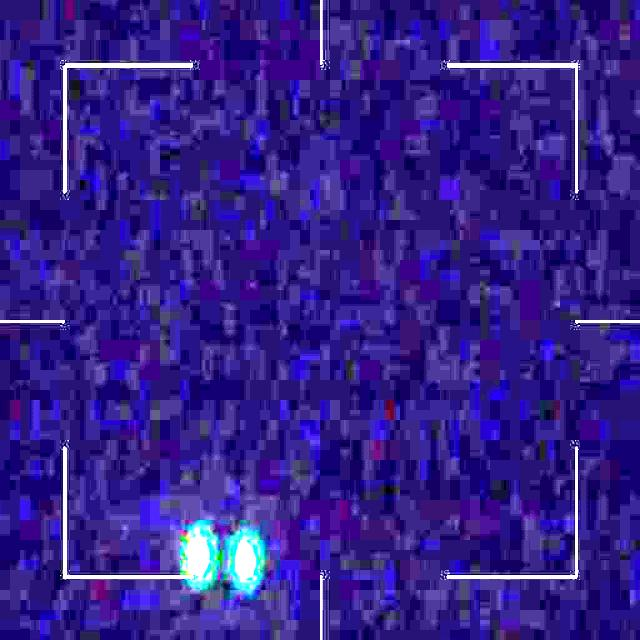bird: (185, 532, 258, 581)
